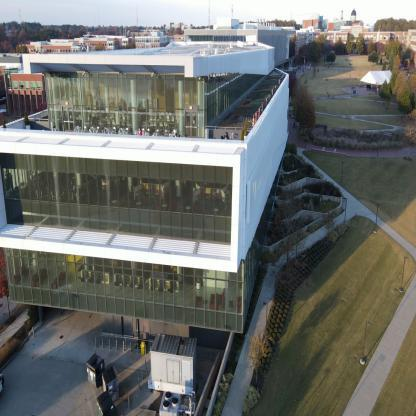Hunt Library: (1, 24, 292, 360)
